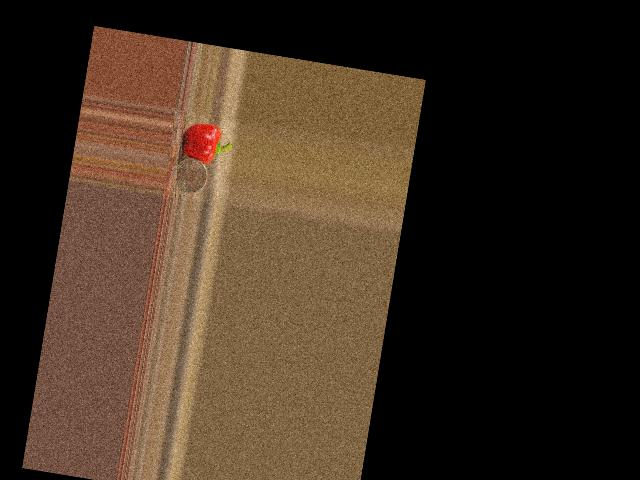bell_pepper: (179, 119, 234, 165)
